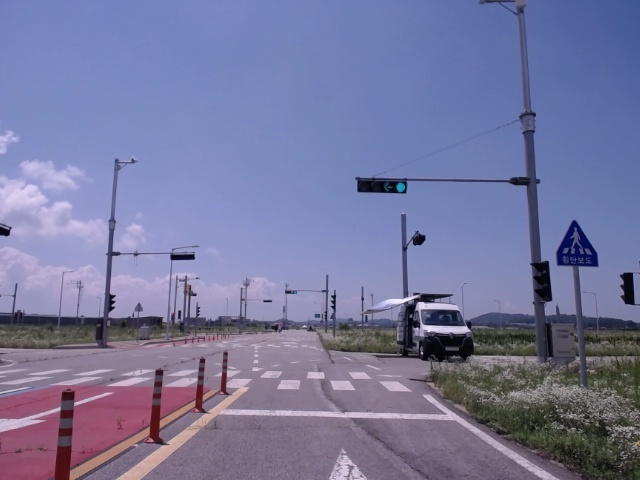all_green_4: (354, 176, 407, 192)
